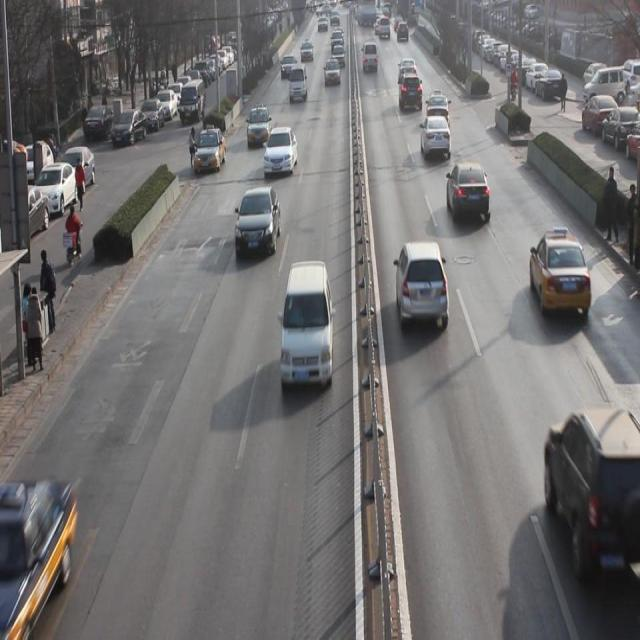car: (542, 408, 640, 578), (0, 476, 74, 640), (527, 227, 593, 319), (394, 241, 448, 337), (235, 191, 280, 261), (447, 161, 492, 223), (264, 125, 298, 178), (194, 126, 227, 177), (420, 113, 452, 160), (246, 106, 271, 148), (427, 91, 450, 129), (400, 72, 423, 108)
truck: (282, 261, 333, 390), (288, 62, 307, 105)
